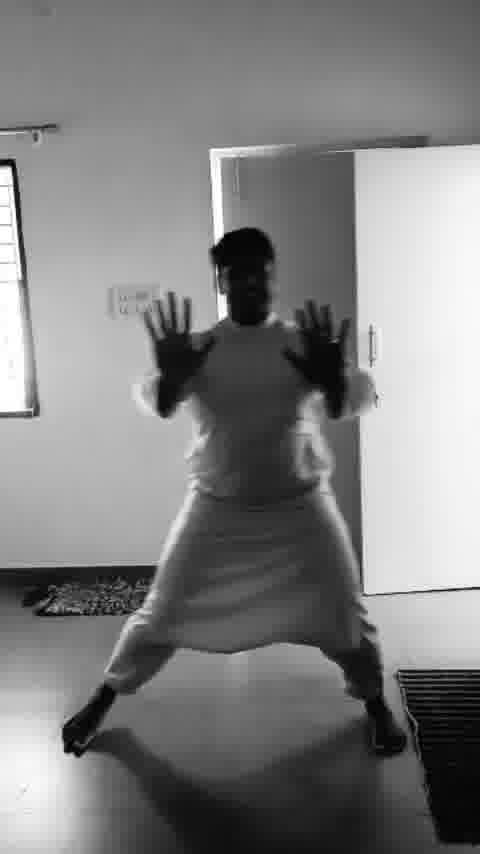duck: (53, 226, 406, 792)
